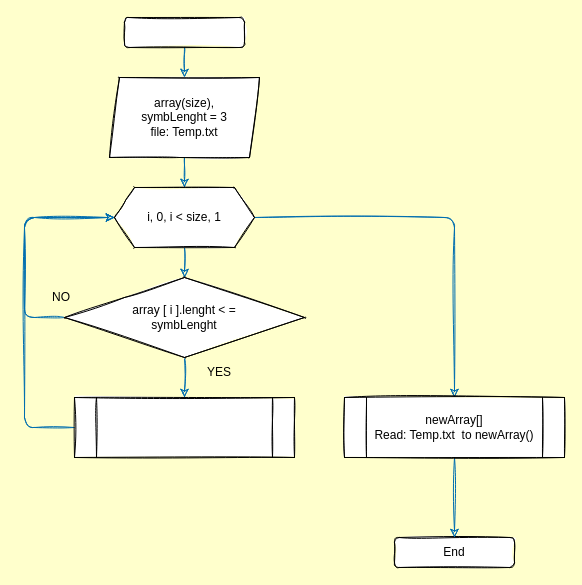
Some shapes in this 582 by 585 pixel diagram are drawn without their labels. Here are the shapes that lost their labels. From the top down, the box of each, then its label:
(124, 16, 244, 48): Start
(74, 396, 294, 458): Write: array[i] to Temp.txt
